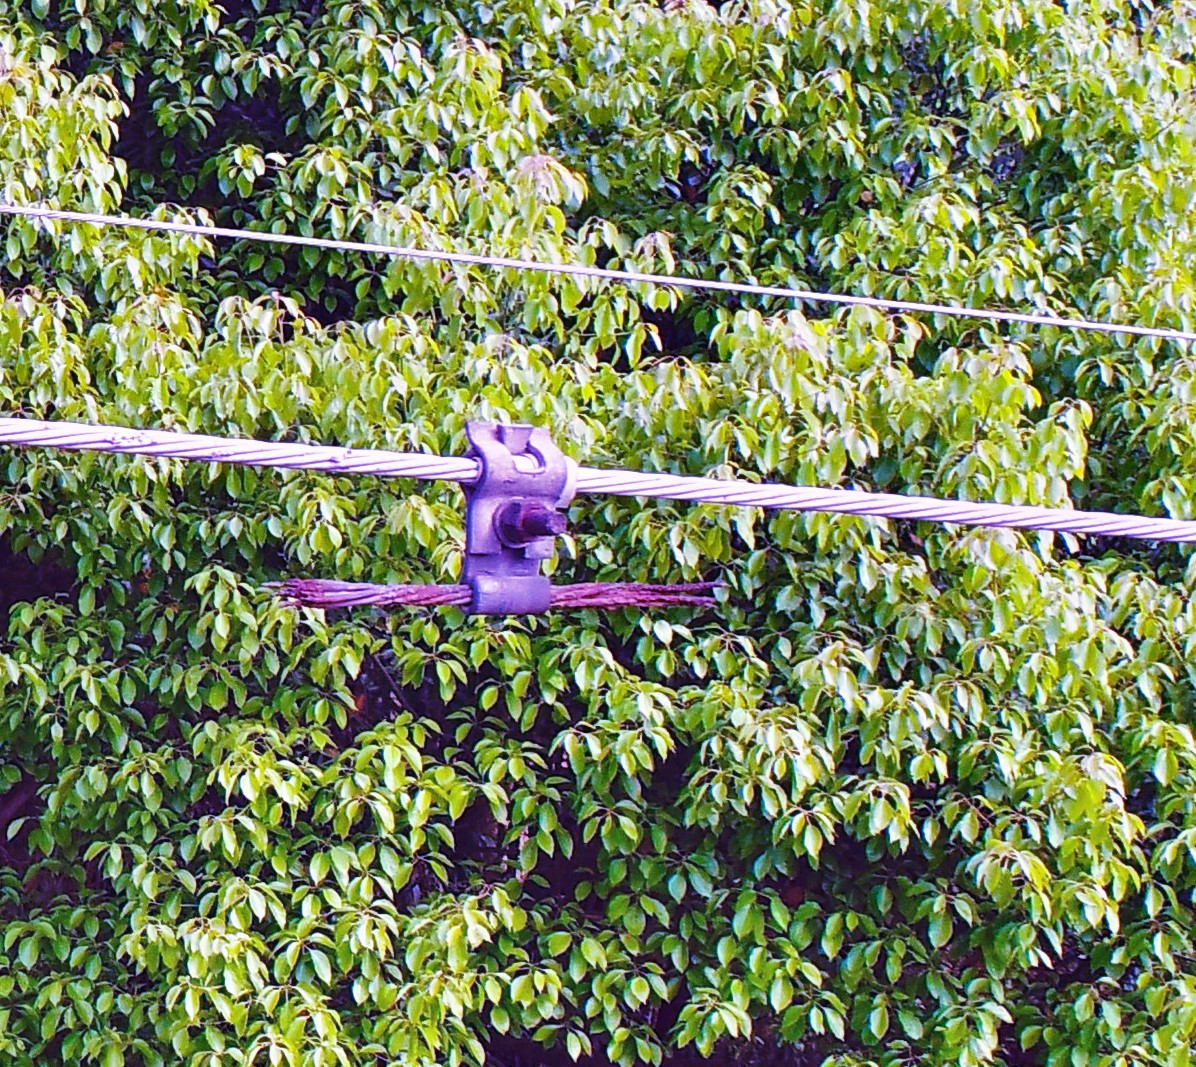Damage of shockproof hammer: (248, 406, 752, 652)
